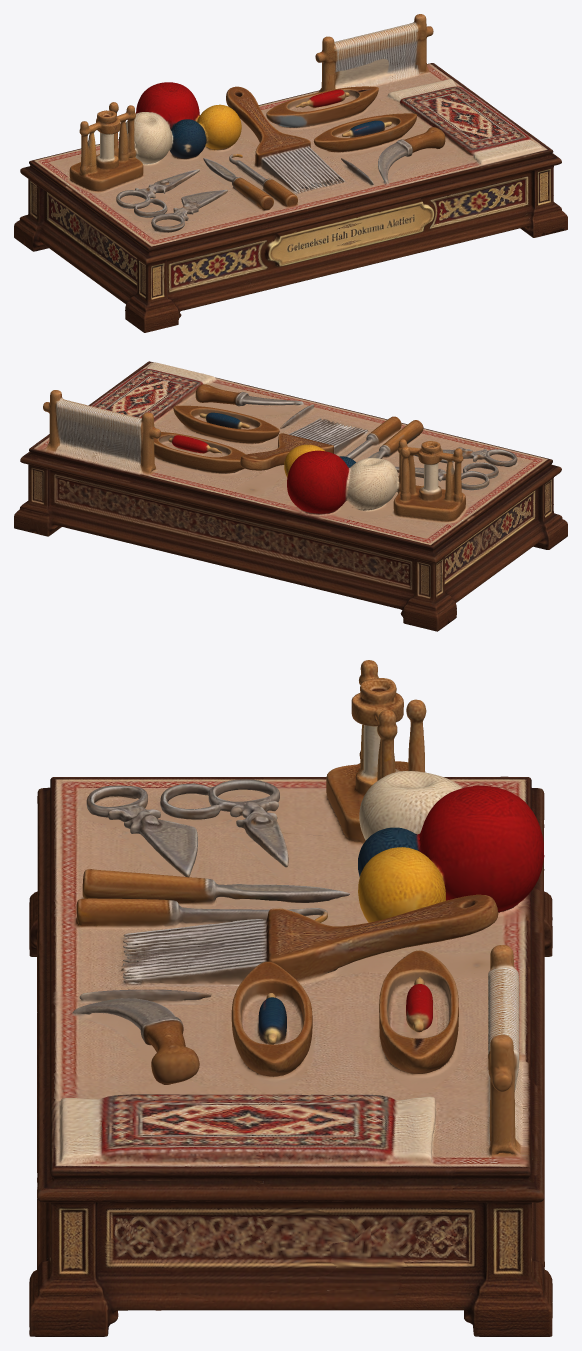
Rendered from vitrin.glb.
The picture shows the model from 3 angles, top to bottom: view 1: azimuth 30°, elevation 25°; view 2: azimuth 150°, elevation 25°; view 3: azimuth 270°, elevation 25°; orthographic projection. The views are drawn at different scales.
Size of the model in its own units: 1.9 by 0.6146 by 1.01.
1 material, 1 textured.
